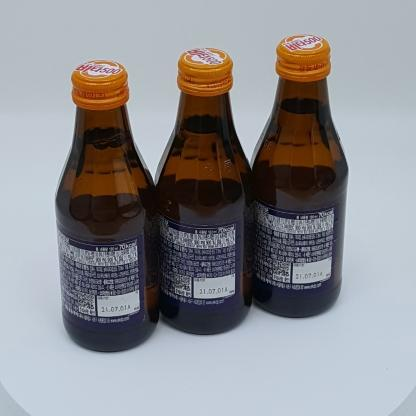-----500---180ML: (55, 59, 159, 352), (154, 46, 253, 335), (251, 34, 348, 318)
